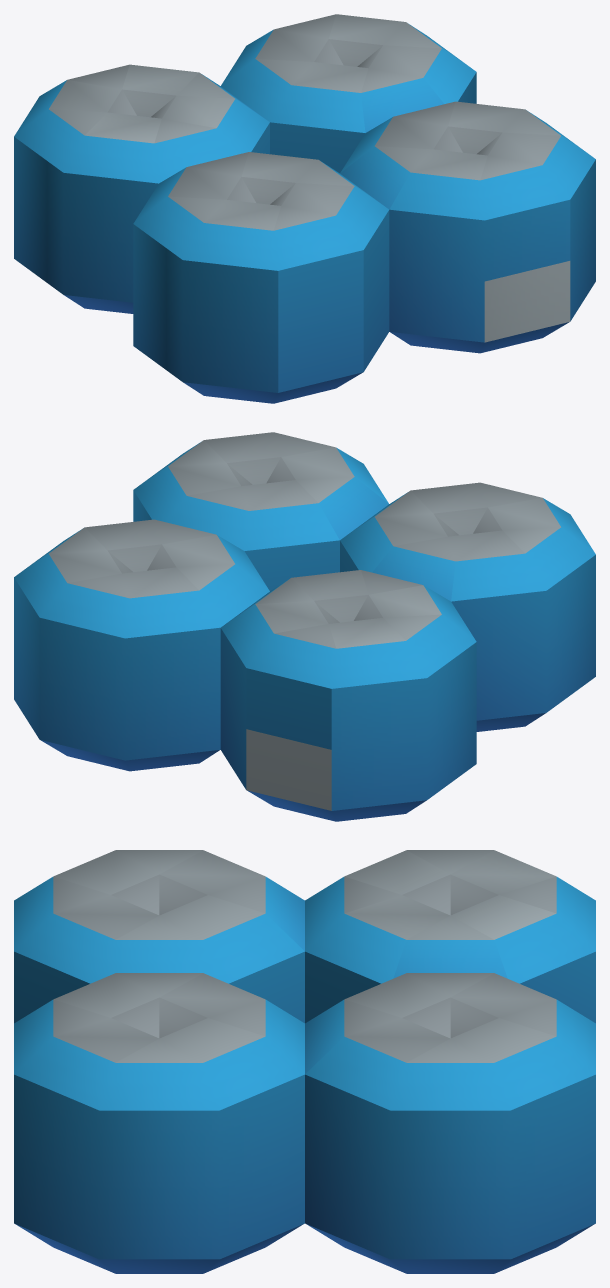
File: kaykit_containers_c_v01.glb
The picture shows the model from 3 angles, top to bottom: view 1: azimuth 30°, elevation 25°; view 2: azimuth 150°, elevation 25°; view 3: azimuth 270°, elevation 25°; orthographic projection. The views are drawn at different scales.
Visible parts, largest first — view 1: containers_C; view 2: containers_C; view 3: containers_C.
Part boxes in pixels (x1=…): containers_C: x1=14, y1=14, x2=595, y2=403; containers_C: x1=14, y1=432, x2=595, y2=821; containers_C: x1=14, y1=850, x2=595, y2=1273.
Bounding box in the file's own units: 0.5 × 0.2 × 0.5.
1 material, 1 textured.
